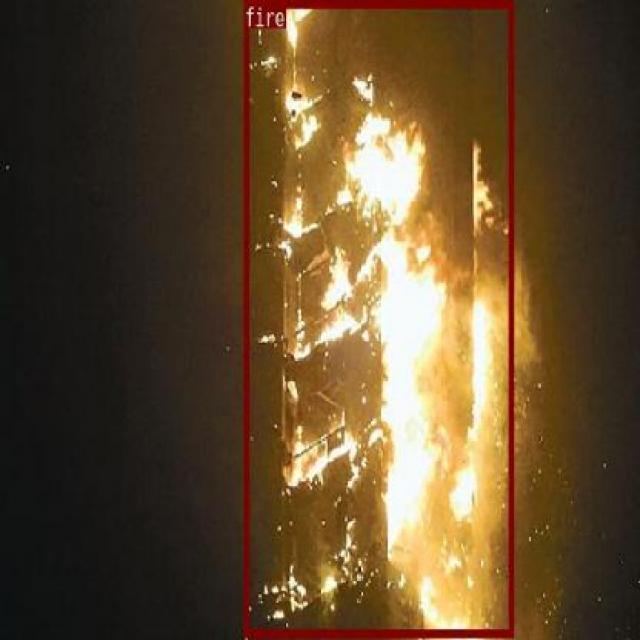fire: (243, 0, 512, 635)
